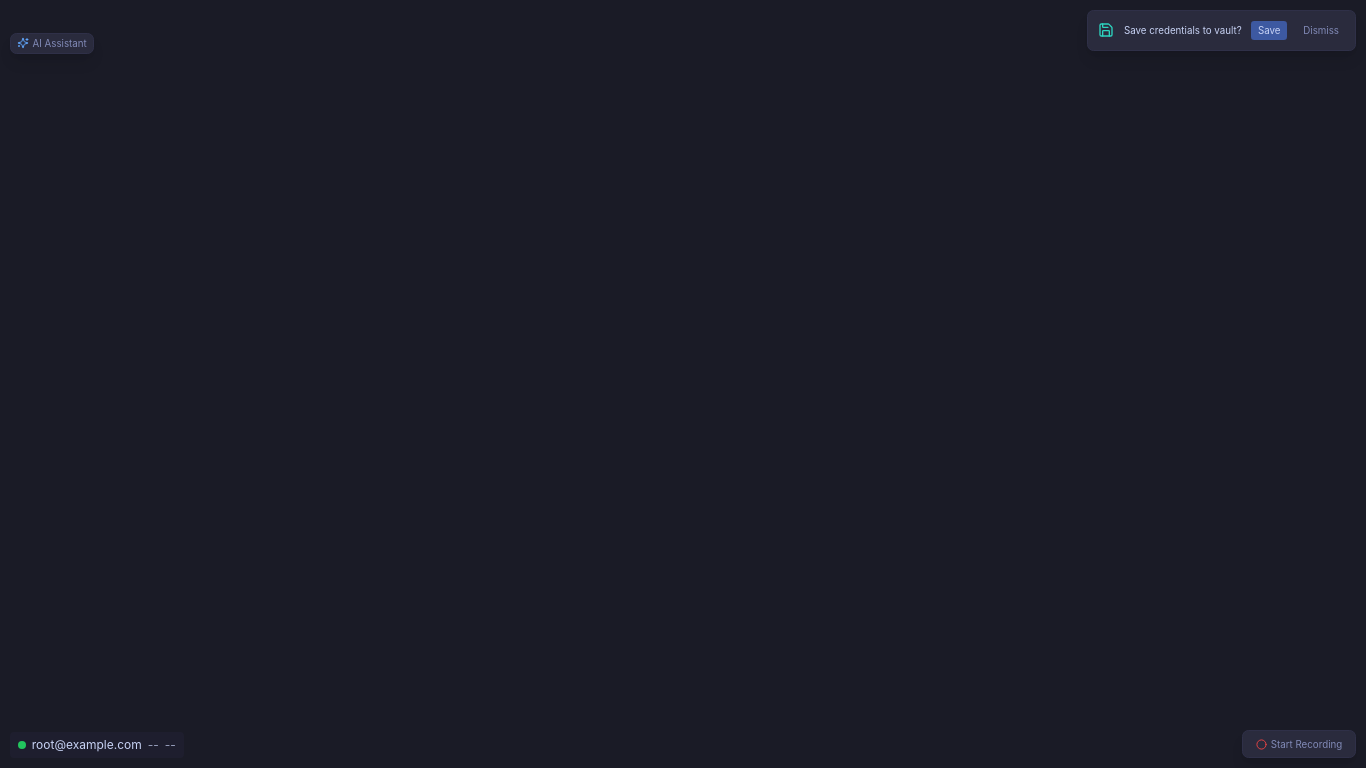
SshTerminalTab › dismisses the save offer without saving
Expected: the text "Save credentials to vault?" is shown, [1124, 24, 1242, 37]
Click the button "Dismiss": coordinates (1321, 30) [1297, 20, 1346, 40]
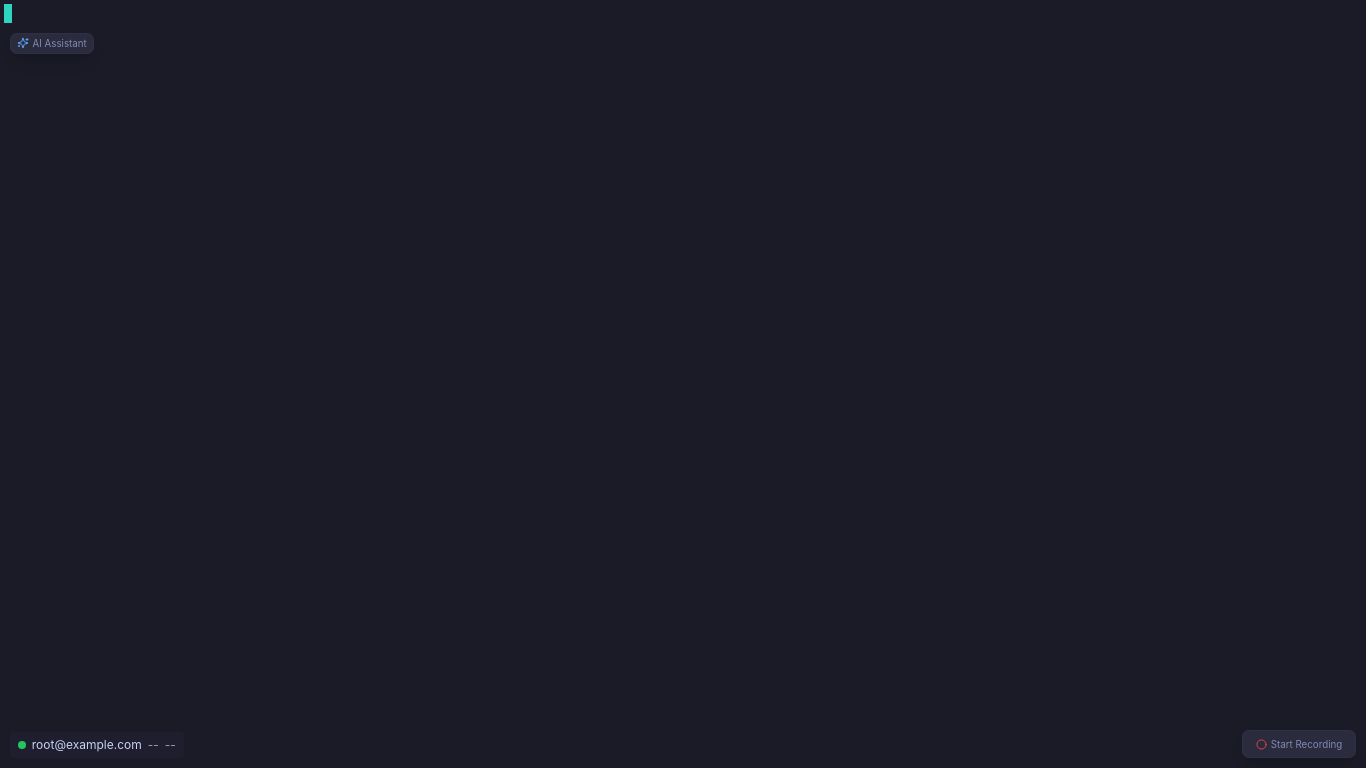
Expected: the text "Save credentials to vault?" is gone
